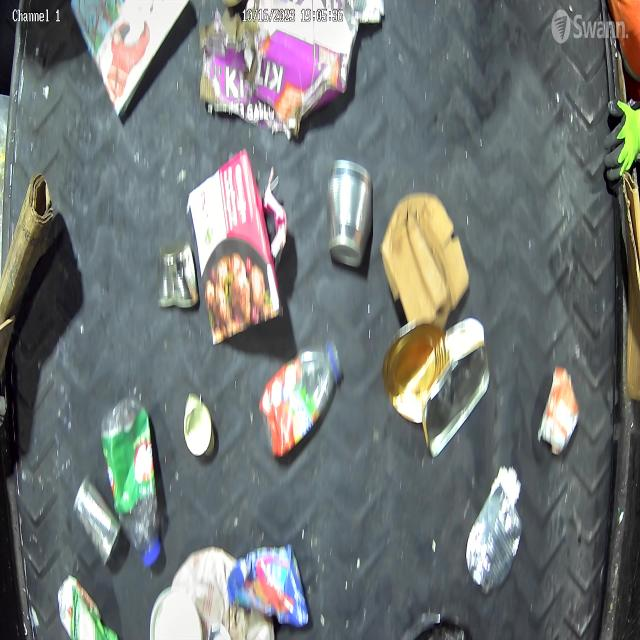can: (382, 319, 450, 424), (464, 484, 524, 596), (327, 157, 375, 268), (72, 474, 122, 567), (537, 362, 581, 458), (156, 238, 199, 312), (183, 390, 216, 460)
non_white_jug: (227, 542, 310, 628)
plastic_bottle: (99, 393, 162, 567)
